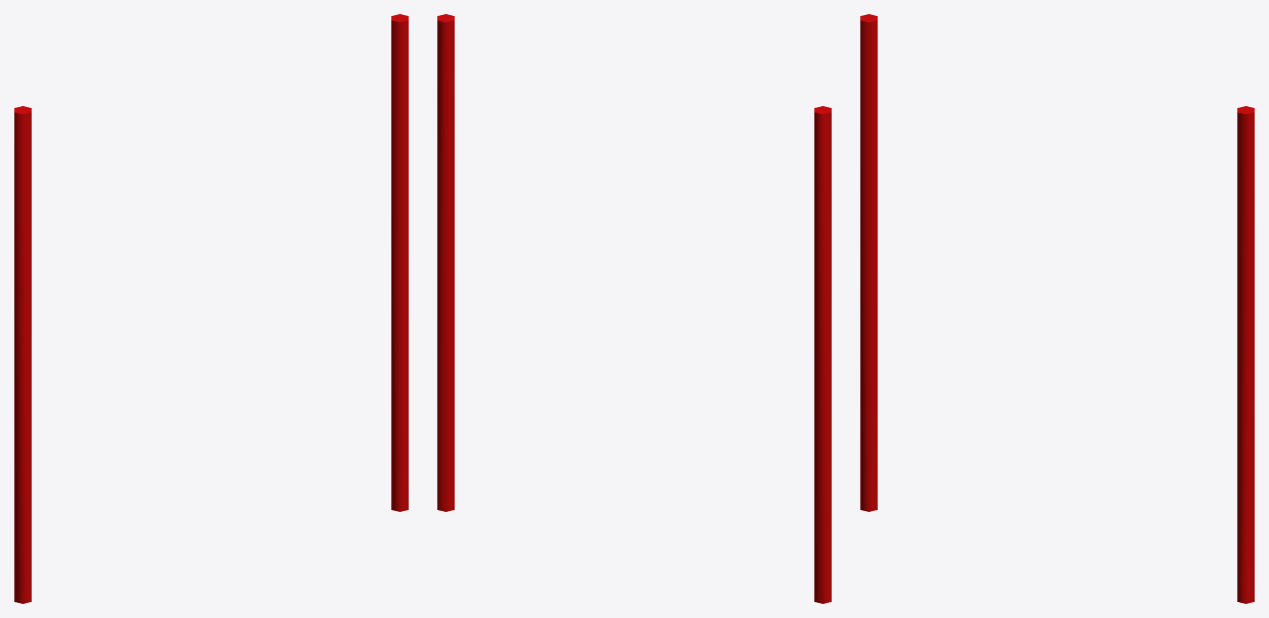
The picture shows the model from 3 angles, left to right: view 1: azimuth 30°, elevation 25°; view 2: azimuth 150°, elevation 25°; view 3: azimuth 330°, elevation 25°; orthographic projection.
Parts seen in each view (by area): view 1: Mesh; view 2: Mesh; view 3: Mesh.
Boxes of the visible parts, box(x1,y1,x2,y2) form: Mesh: box(14, 14, 408, 603); Mesh: box(437, 14, 831, 603); Mesh: box(860, 14, 1254, 603).
Bounding box in the file's own units: 0.3182 × 0.3774 × 0.0121.
